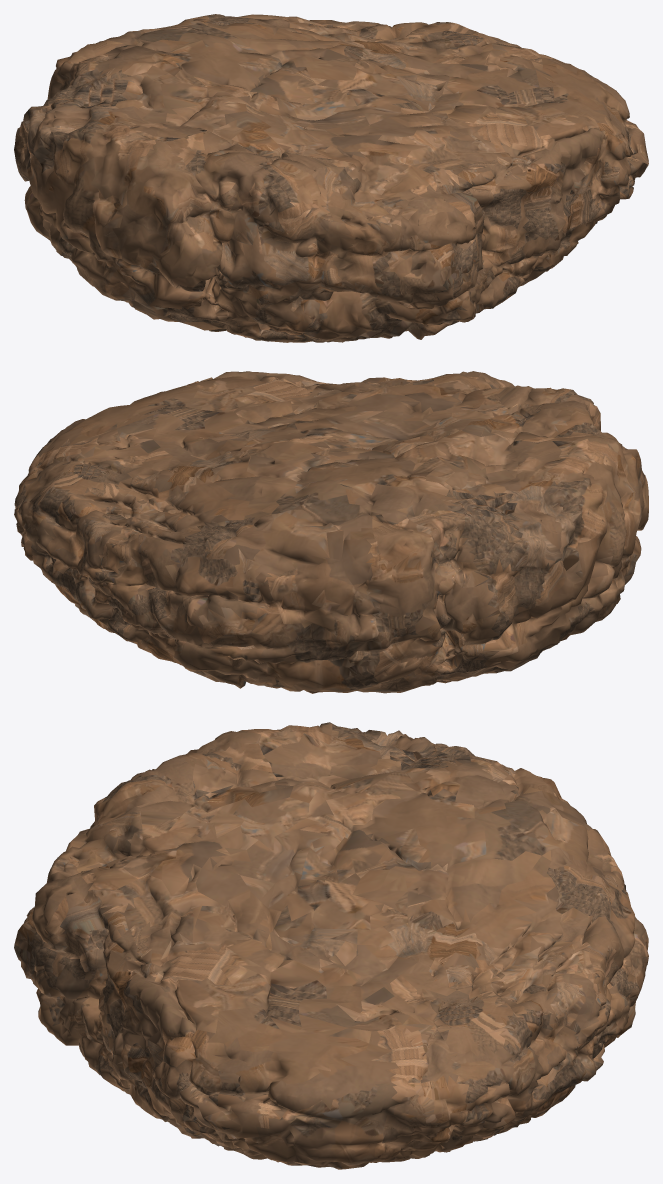
File: SM_Rock_Large_BlenderOptimized.fbx
The picture shows the model from 3 angles, top to bottom: view 1: azimuth 30°, elevation 25°; view 2: azimuth 150°, elevation 25°; view 3: azimuth 270°, elevation 25°; orthographic projection. The views are drawn at different scales.
Parts seen in each view (by area): view 1: Mesh_0; view 2: Mesh_0; view 3: Mesh_0.
Boxes of the visible parts, x1,y1,x2,y2 form: Mesh_0: (14,14,648,342); Mesh_0: (14,371,648,693); Mesh_0: (14,722,648,1169).
Bounding box in the file's own units: 1.9 × 0.6754 × 1.7.
